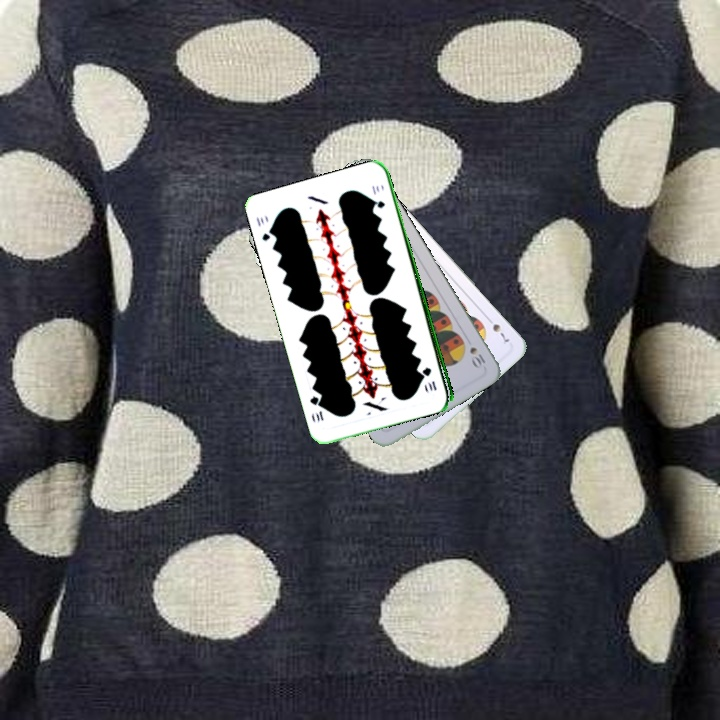G10: (252, 212, 277, 244), (420, 363, 439, 393)
S10: (466, 343, 488, 370)
S7: (482, 313, 512, 345)
